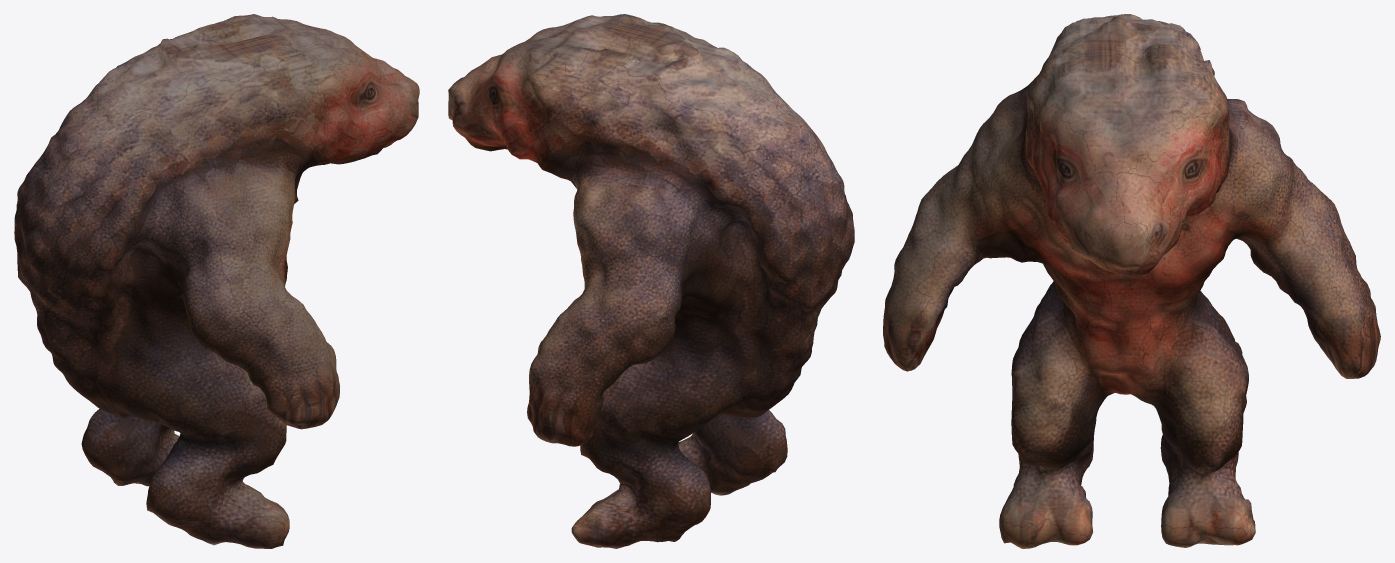
The model's file is monster_croc2.glb.
The picture shows the model from 3 angles, left to right: view 1: azimuth 30°, elevation 25°; view 2: azimuth 150°, elevation 25°; view 3: azimuth 270°, elevation 25°; orthographic projection. The views are drawn at different scales.
Parts seen in each view (by area): view 1: Mesh1; view 2: Mesh1; view 3: Mesh1.
Boxes of the visible parts, x1,y1,x2,y2 form: Mesh1: [14, 14, 419, 548]; Mesh1: [448, 14, 854, 548]; Mesh1: [883, 14, 1380, 548].
Bounding box in the file's own units: 1.04 × 1.2 × 1.07.
1 material, 1 textured.
